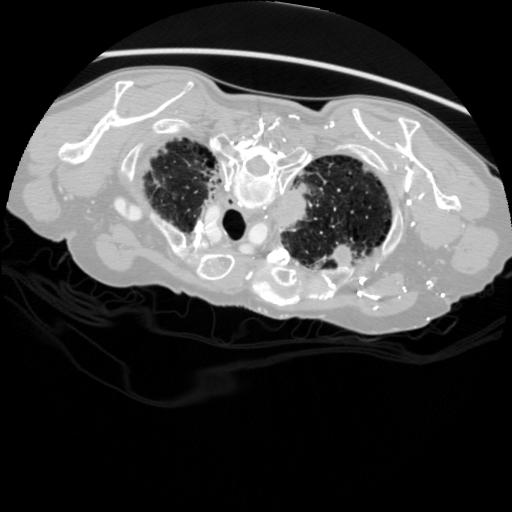nodule: (325, 241, 355, 271)
